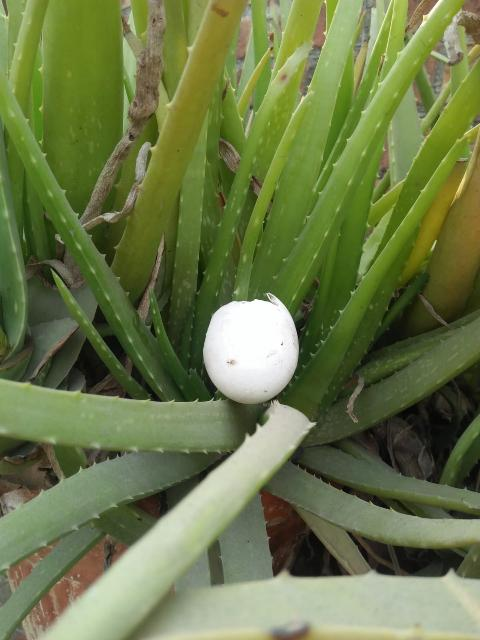Roto: (202, 292, 299, 405)
